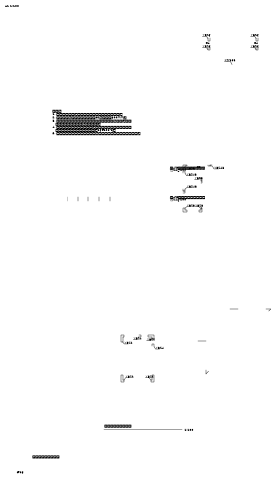wall: (196, 318, 205, 321), (159, 310, 168, 313), (75, 105, 83, 108), (77, 61, 84, 64), (106, 61, 113, 64), (108, 109, 115, 112), (118, 99, 125, 102), (90, 111, 97, 114), (183, 476, 190, 479), (248, 476, 255, 479), (159, 293, 168, 295), (172, 305, 181, 307), (159, 270, 167, 272), (173, 270, 181, 272), (159, 317, 167, 319), (183, 463, 190, 465), (248, 463, 255, 465), (106, 64, 110, 66), (181, 300, 183, 304), (173, 272, 177, 274), (108, 109, 112, 111), (139, 318, 143, 320), (139, 315, 143, 317), (139, 282, 143, 284), (139, 279, 143, 281), (183, 466, 187, 468), (248, 466, 252, 468), (78, 105, 81, 107), (80, 64, 83, 66), (162, 272, 165, 274), (162, 295, 165, 297), (199, 318, 202, 320), (173, 305, 176, 307), (162, 317, 165, 319), (162, 310, 165, 312), (120, 99, 123, 101), (90, 111, 93, 113), (190, 321, 193, 323), (175, 319, 178, 320), (187, 470, 190, 471), (157, 289, 159, 290), (253, 470, 255, 471)
